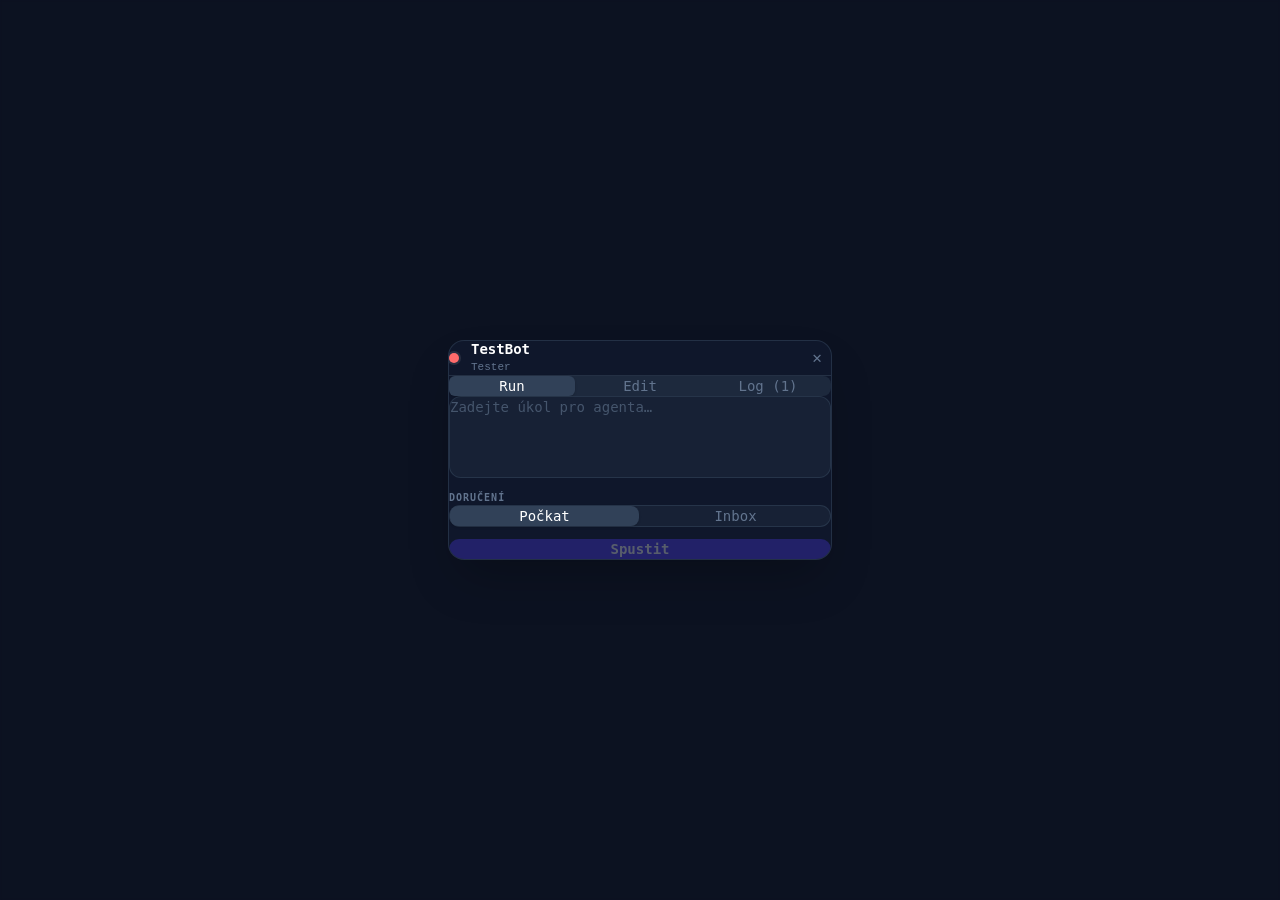
Test: AgentPanel Log tab › shows the history view when entries are present
Click the button with test id "tab-log": point(768, 386) [705,376,831,396]
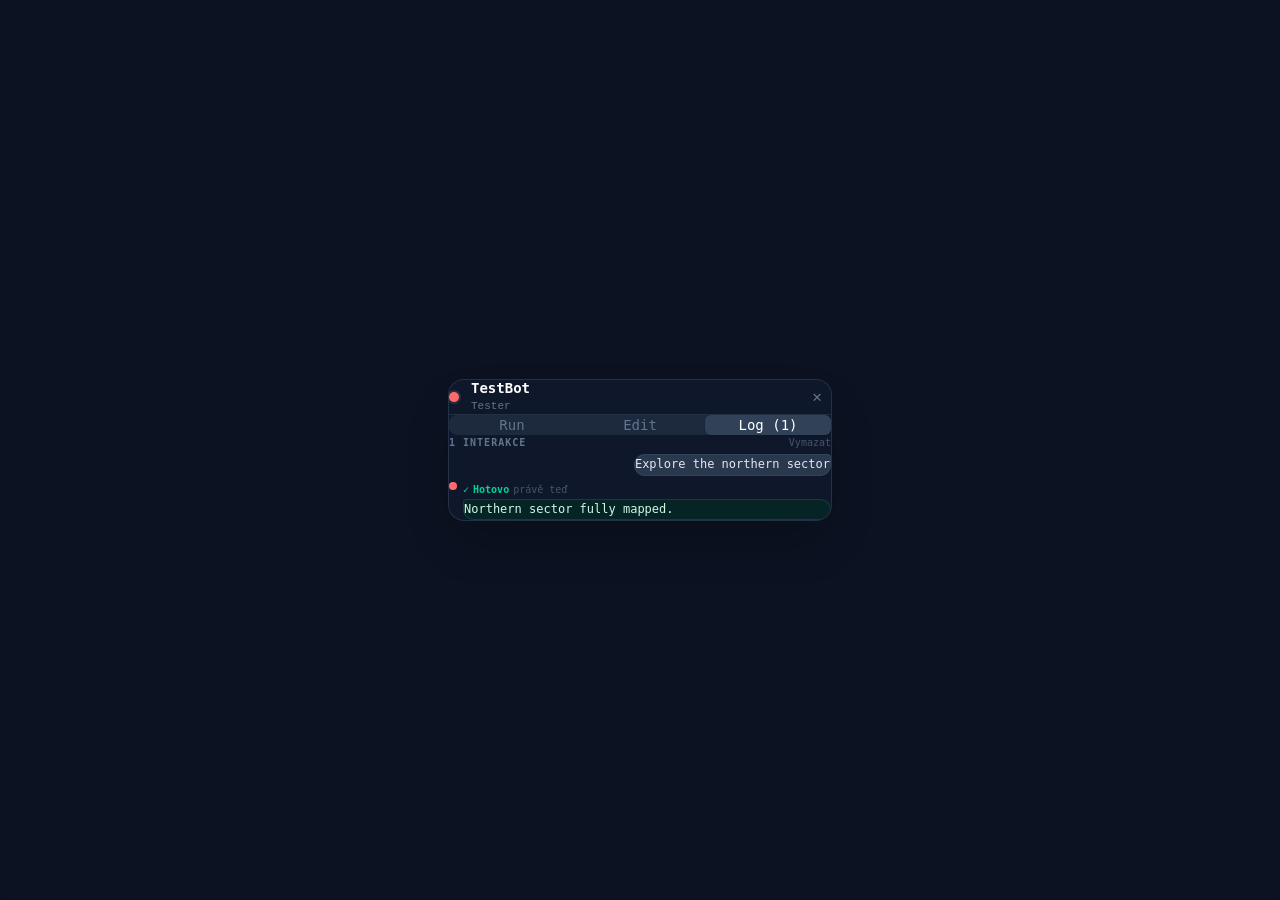
Expected: the element with test id "agent-history-view" is shown, [449,435,831,520]
